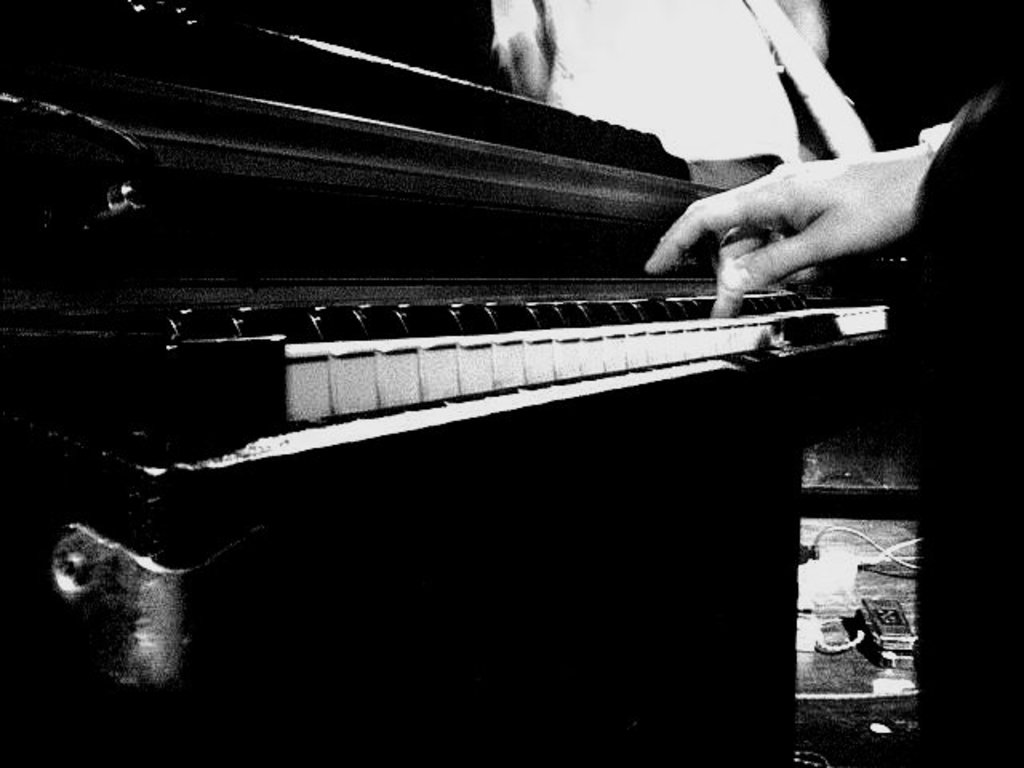Person: (644, 74, 1023, 766), (490, 0, 825, 191)
